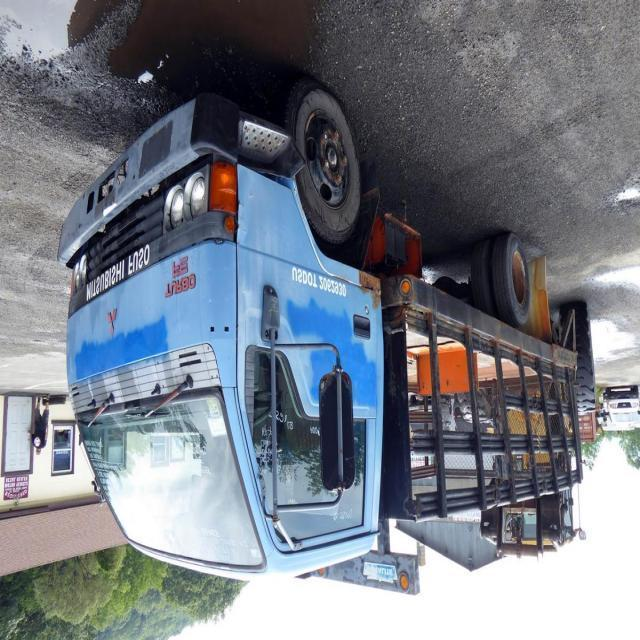truck: (54, 82, 579, 588)
